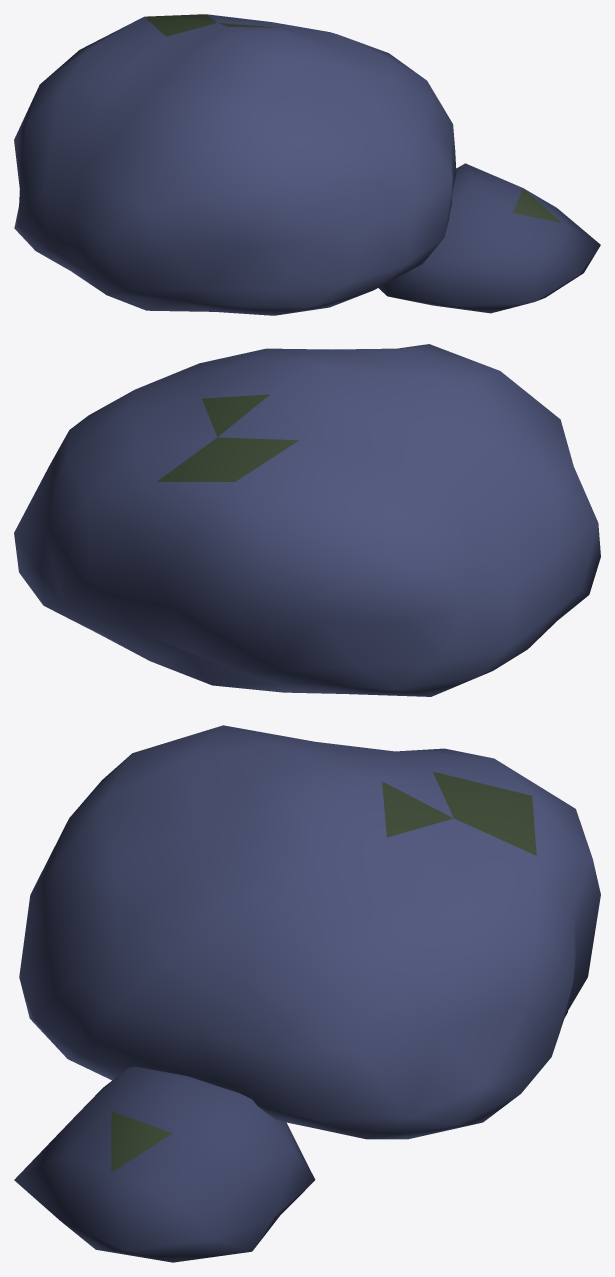
3 renders of one model, top to bottom at view 1: azimuth 30°, elevation 25°; view 2: azimuth 150°, elevation 25°; view 3: azimuth 270°, elevation 25°, orthographic. The views are drawn at different scales.
Visible parts, largest first — view 1: shore-boulder-c; view 2: shore-boulder-c; view 3: shore-boulder-c.
Part boxes in pixels (left/top/right/bottom): shore-boulder-c: left=14, top=14, right=600, bottom=315; shore-boulder-c: left=14, top=344, right=600, bottom=696; shore-boulder-c: left=14, top=725, right=600, bottom=1262.
Size of the model in its own units: 1.3 by 0.6477 by 1.03.
